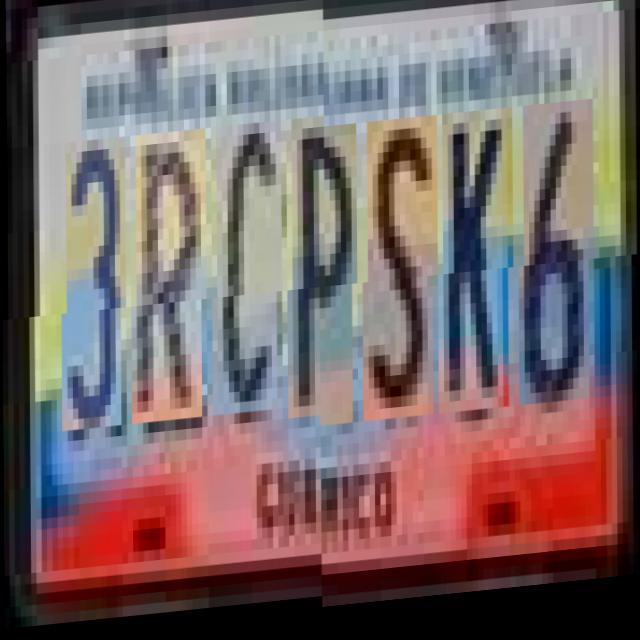3: (66, 150, 126, 443)
6: (522, 112, 594, 416)
C: (216, 137, 282, 430)
K: (442, 119, 514, 422)
P: (292, 131, 358, 435)
R: (136, 143, 208, 437)
S: (366, 125, 438, 429)
